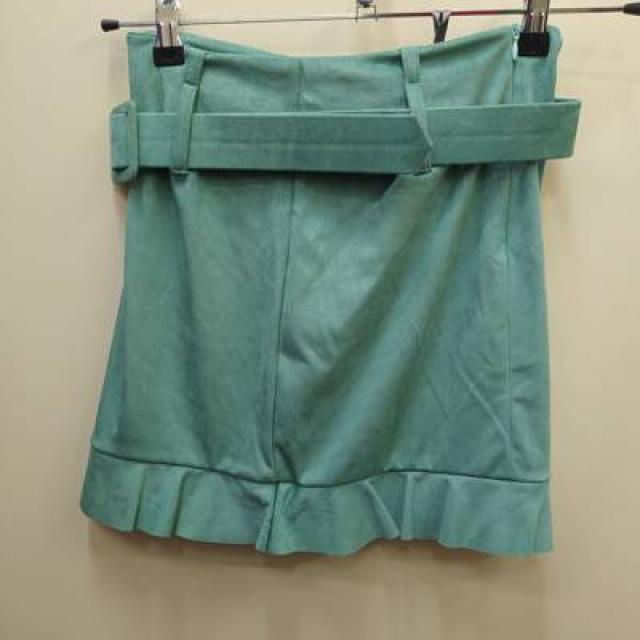Clothes -Biodegradable-: (78, 28, 581, 556)
